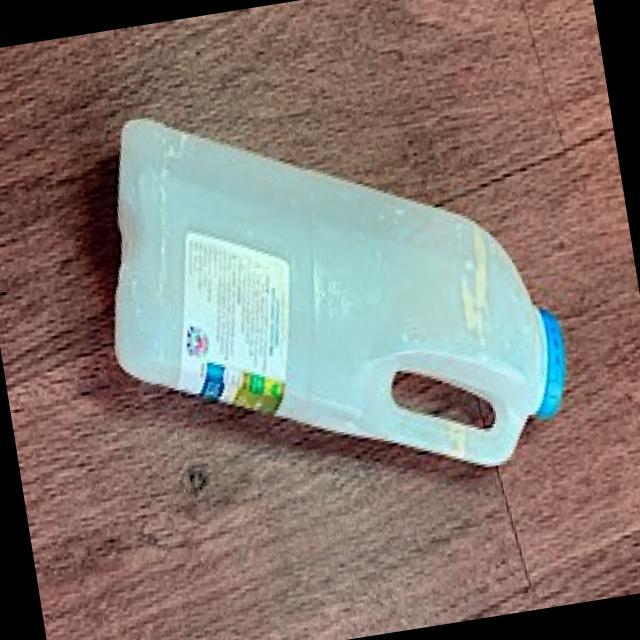HDPE Plastic: (104, 112, 574, 476)
